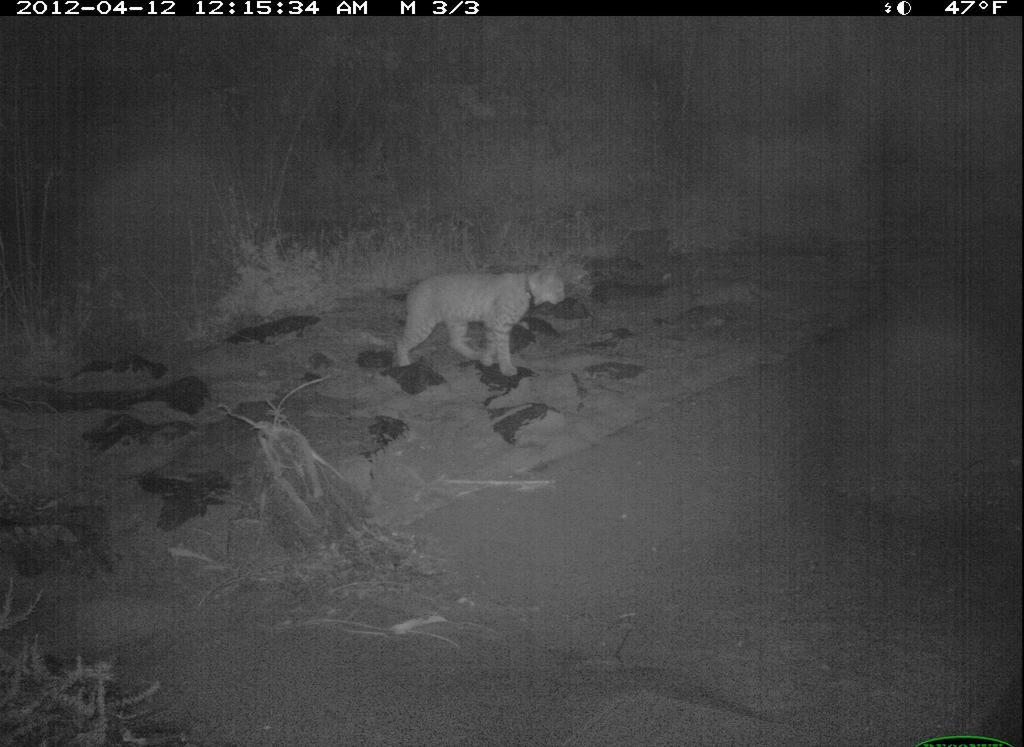bobcat: (390, 254, 577, 387)
